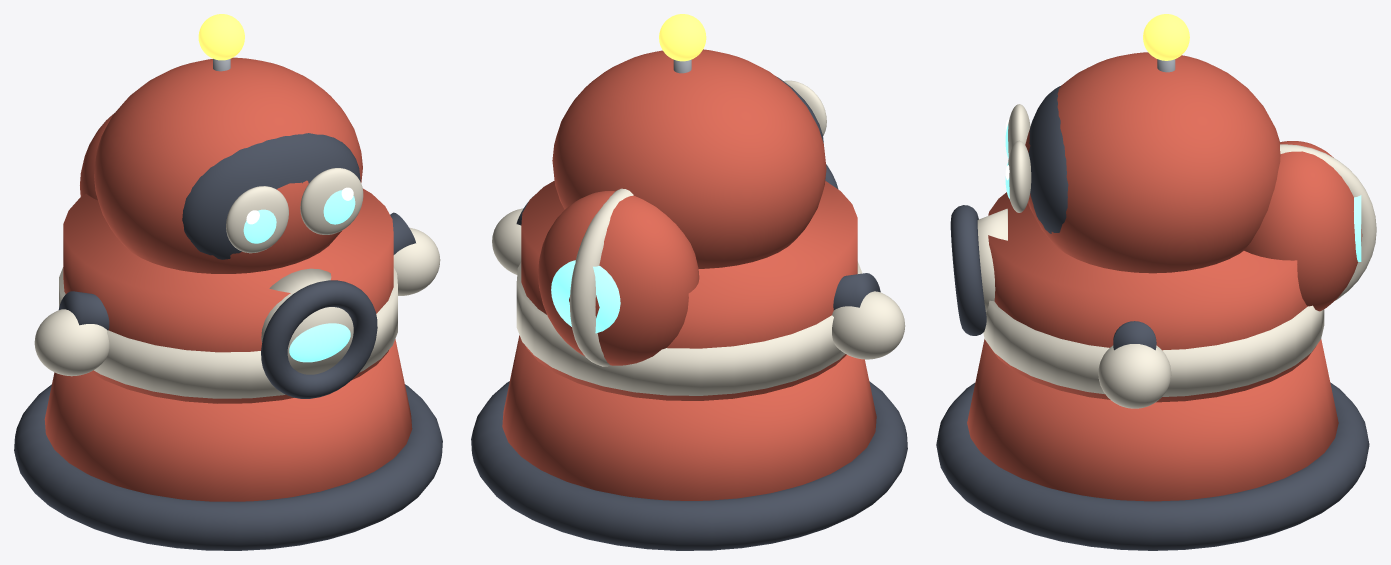
File: dusty_v3.glb
3 renders of one model, left to right at view 1: azimuth 30°, elevation 25°; view 2: azimuth 150°, elevation 25°; view 3: azimuth 270°, elevation 25°, orthographic.
Visible parts, largest first — view 1: skirt, head, body, hem, belly_band, visor, snout_lip, mitt_L, snout, eye_R, eye_L, mitt_R (+7 smaller); view 2: head, skirt, hem, body, bag, belly_band, bag_strap, mitt_L, bag_window, blinker, mitt_R, arm_L (+1 smaller); view 3: head, skirt, body, hem, belly_band, bag, visor, mitt_R, snout_lip, bag_strap, blinker, snout (+3 smaller).
Part boxes in pixels (x1,y1,x2,y2): skirt: [44, 339, 412, 501]; head: [94, 57, 362, 273]; body: [63, 188, 393, 403]; hem: [14, 384, 442, 550]; belly_band: [59, 267, 397, 398]; visor: [182, 133, 360, 259]; snout_lip: [261, 280, 377, 398]; mitt_L: [34, 309, 109, 376]; snout: [261, 268, 353, 374]; eye_R: [300, 168, 363, 234]; eye_L: [226, 186, 288, 253]; mitt_R: [393, 227, 440, 295]; head: [552, 49, 826, 268]; skirt: [502, 335, 876, 500]; hem: [471, 381, 907, 550]; body: [521, 180, 857, 400]; bag: [538, 191, 699, 365]; belly_band: [516, 261, 862, 395]; bag_strap: [569, 188, 633, 366]; mitt_L: [832, 291, 905, 359]; bag_window: [551, 260, 620, 333]; blinker: [659, 14, 706, 61]; mitt_R: [492, 208, 523, 274]; arm_L: [833, 273, 880, 310]; head: [1025, 52, 1280, 273]; skirt: [967, 339, 1338, 501]; body: [988, 192, 1315, 402]; hem: [936, 382, 1369, 550]; belly_band: [983, 300, 1324, 396]; bag: [1244, 141, 1362, 311]; visor: [1028, 86, 1068, 233]; mitt_R: [1098, 344, 1171, 408]; snout_lip: [950, 205, 986, 335]; bag_strap: [1280, 144, 1376, 300]; blinker: [1143, 14, 1189, 60]; snout: [977, 208, 1007, 312].
Bounding box in the file's own units: 0.512 × 0.552 × 0.488.
